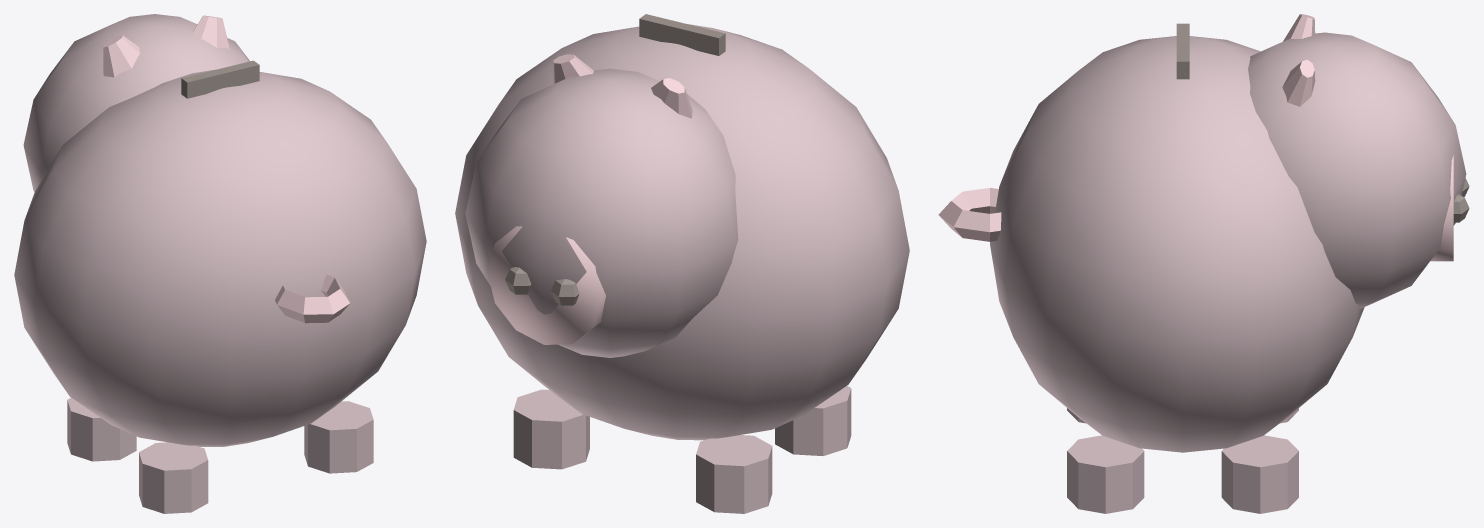
Rendered from PorcelainPiggy.fbx.
The picture shows the model from 3 angles, left to right: view 1: azimuth 30°, elevation 25°; view 2: azimuth 150°, elevation 25°; view 3: azimuth 270°, elevation 25°; orthographic projection. The views are drawn at different scales.
Visible parts, largest first — view 1: PorcelainPiggy; view 2: PorcelainPiggy; view 3: PorcelainPiggy.
Part boxes in pixels (box(x1,y1,x2,y2)): PorcelainPiggy: box(14, 14, 426, 513); PorcelainPiggy: box(455, 14, 909, 513); PorcelainPiggy: box(938, 14, 1469, 513).
Bounding box in the file's own units: 0.72 × 0.7123 × 0.825.
